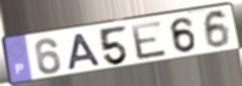5: (97, 24, 130, 66)
6: (201, 9, 233, 51), (168, 16, 198, 54), (33, 37, 62, 76)
A: (67, 32, 103, 72)
E: (129, 19, 170, 62)
